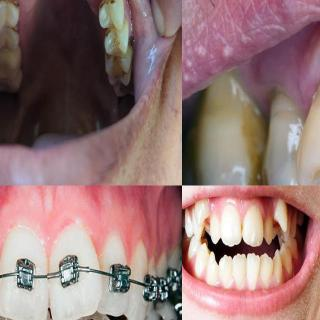Gum Swelling: (231, 20, 320, 111), (0, 209, 132, 261)
maligned: (49, 229, 102, 320), (190, 194, 216, 222), (274, 197, 292, 233), (262, 212, 278, 245), (208, 213, 222, 247)
stains: (224, 96, 270, 186), (100, 54, 128, 76), (104, 22, 125, 50), (0, 0, 23, 19), (7, 16, 22, 42), (95, 0, 122, 14)
